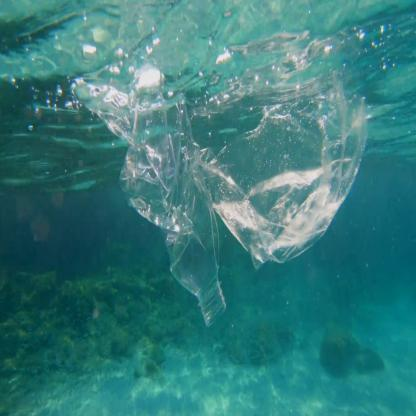Rác: (91, 69, 234, 344), (210, 89, 384, 288)
